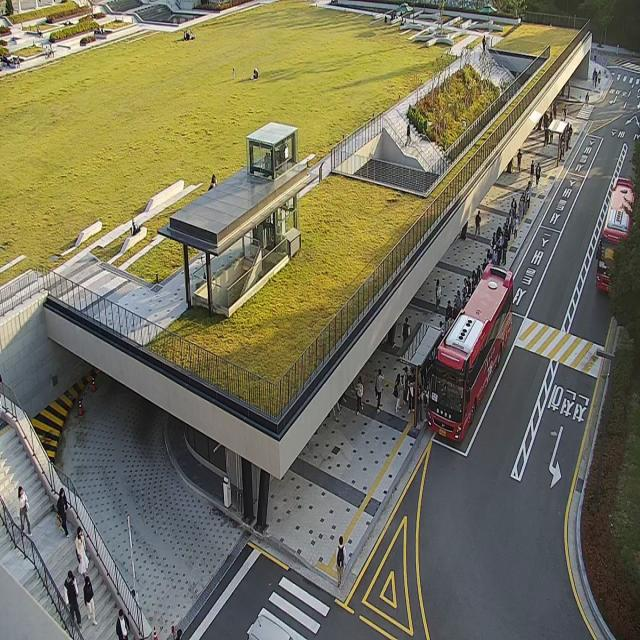queue: (414, 183, 532, 430)
